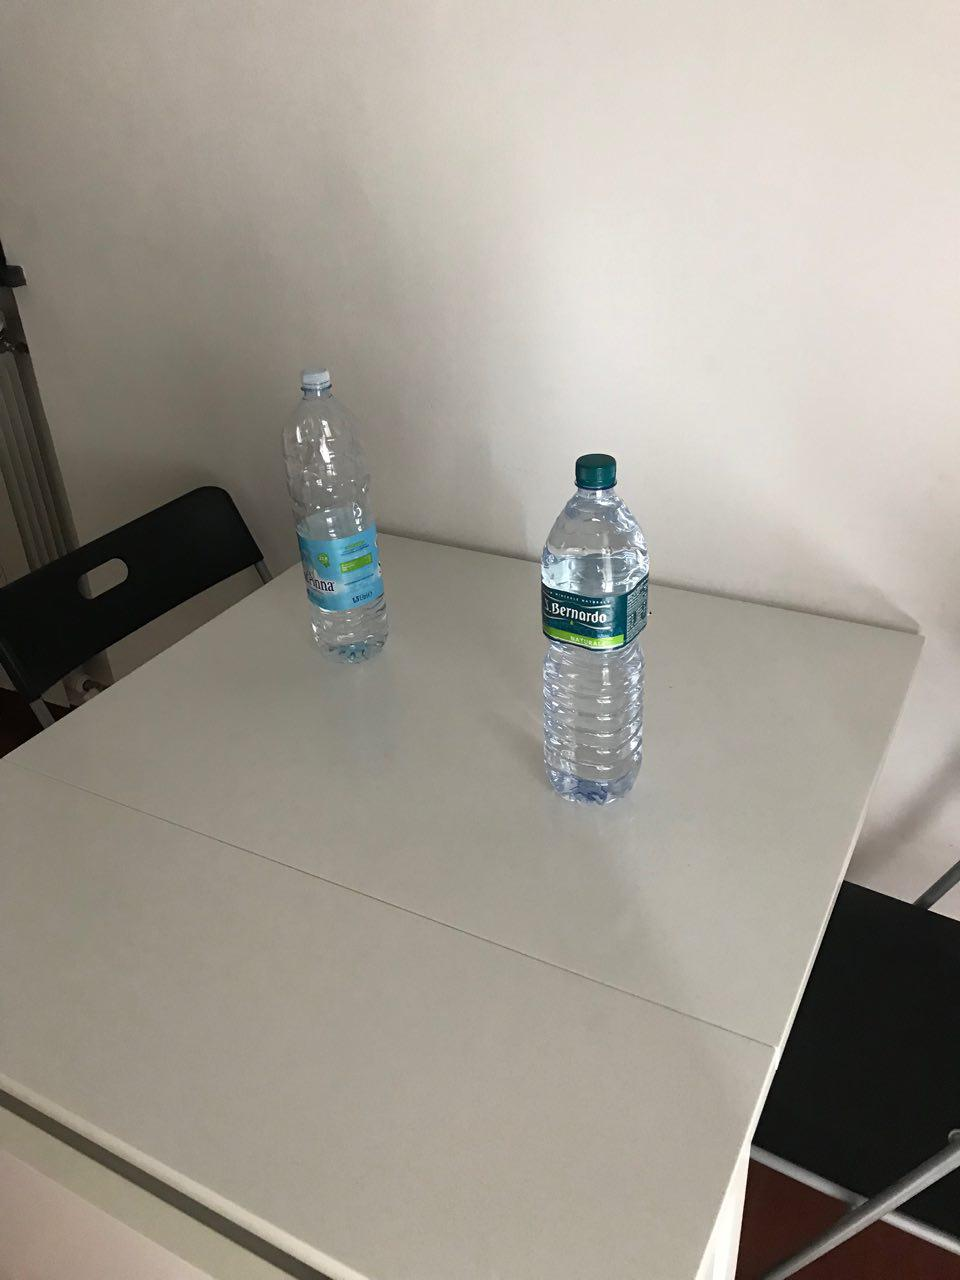san_bernardo: (541, 452, 650, 807)
